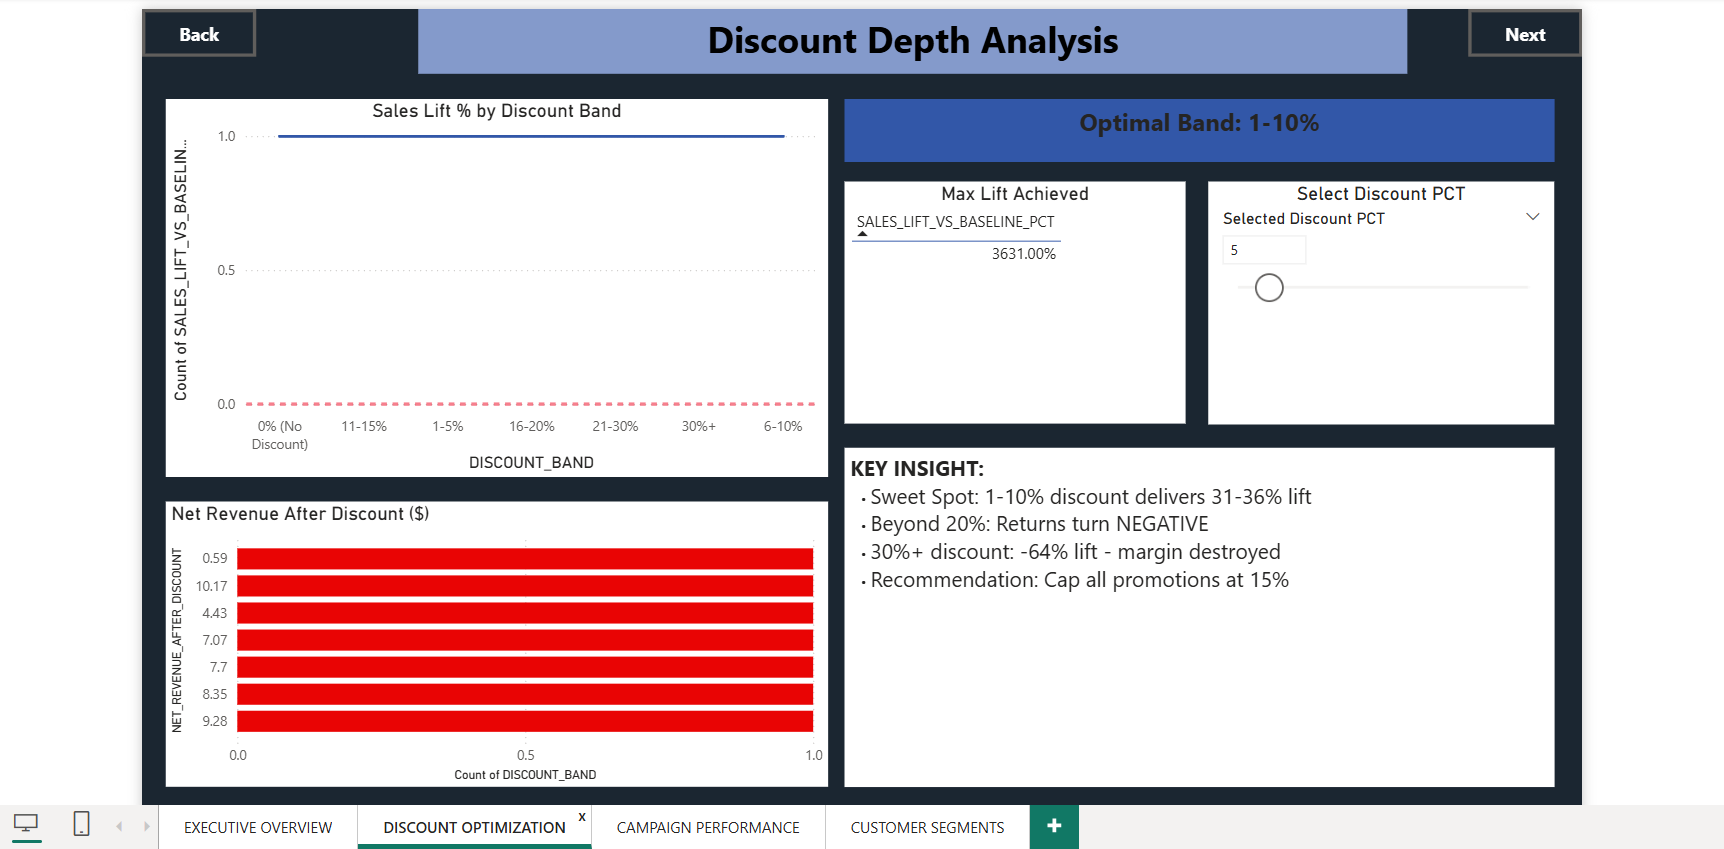

The dashboard page shown, as its layout file describes it:
{"tool":"powerbi","page":{"name":"DISCOUNT OPTIMIZATION","canvas":[1280,720],"ordinal":1},"visuals":[{"type":"lineChart","title":"Sales Lift % by Discount Band","fields":{"Category":["mart_discount_depth.DISCOUNT_BAND"],"Y":["CountNonNull(mart_discount_depth.SALES_LIFT_VS_BASELINE_PCT)"]},"box":[20.6,79.6,588.7,336.2],"z":1000},{"type":"clusteredBarChart","title":"Net Revenue After Discount ($)","fields":{"Y":["CountNonNull(mart_discount_depth.DISCOUNT_BAND)"],"Category":["mart_discount_depth.NET_REVENUE_AFTER_DISCOUNT"]},"box":[20.6,437.7,588.7,253.9],"z":2000},{"type":"tableEx","title":"Max Lift Achieved","fields":{"Values":["mart_discount_depth.SALES_LIFT_VS_BASELINE_PCT"]},"box":[624.4,153.7,303.3,215.4],"z":3000},{"type":"textbox","box":[624.4,79.6,631.2,56.3],"z":4000},{"type":"slicer","title":"Select Discount PCT","fields":{"Values":["Selected Discount PCT.Selected Discount PCT"]},"box":[948.2,153.7,307.4,215.4],"z":5000},{"type":"textbox","box":[624.4,389.7,631.2,301.9],"z":6000},{"type":"actionButton","box":[1178.5,0,101.5,42.5],"z":7000},{"type":"textbox","box":[245.6,0,879.6,57.6],"z":7001},{"type":"actionButton","box":[0,0,101.5,42.5],"z":7002}]}

Visuals, with their boxes in screenshot pixels (x1, y1, x2, y2):
"Sales Lift % by Discount Band" lineChart: [x1=162, y1=94, x2=822, y2=471]
"Net Revenue After Discount ($)" clusteredBarChart: [x1=162, y1=495, x2=822, y2=780]
"Max Lift Achieved" tableEx: [x1=839, y1=177, x2=1179, y2=418]
textbox: [x1=839, y1=94, x2=1547, y2=157]
"Select Discount PCT" slicer: [x1=1202, y1=177, x2=1547, y2=418]
textbox: [x1=839, y1=441, x2=1547, y2=780]
actionButton: [x1=1460, y1=4, x2=1574, y2=52]
textbox: [x1=415, y1=4, x2=1401, y2=69]
actionButton: [x1=139, y1=4, x2=253, y2=52]
